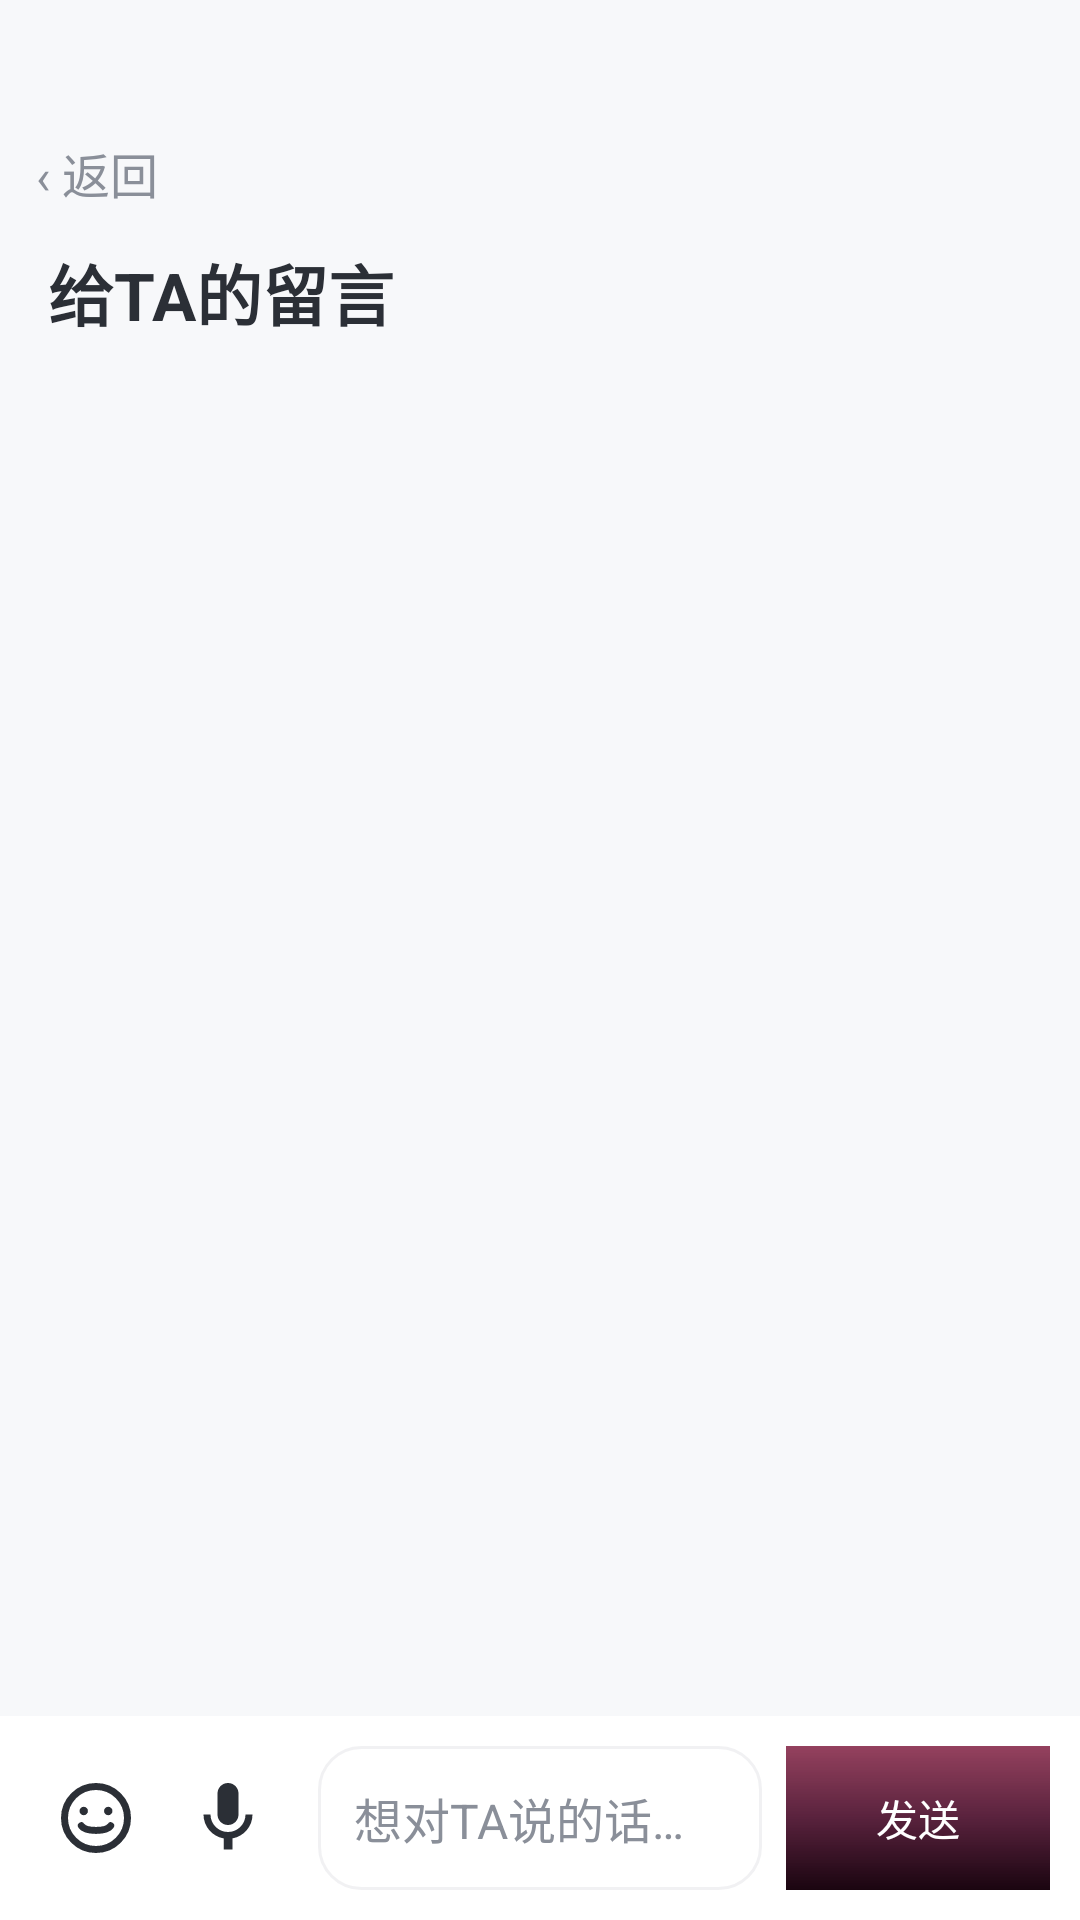

Screen size 1080 x 1920. Icon name, then its box in pixels as bbox=(x1, y1, x2, y2):
表情: bbox=(61, 1783, 131, 1853)
语音/键盘切换: bbox=(203, 1783, 253, 1850)
